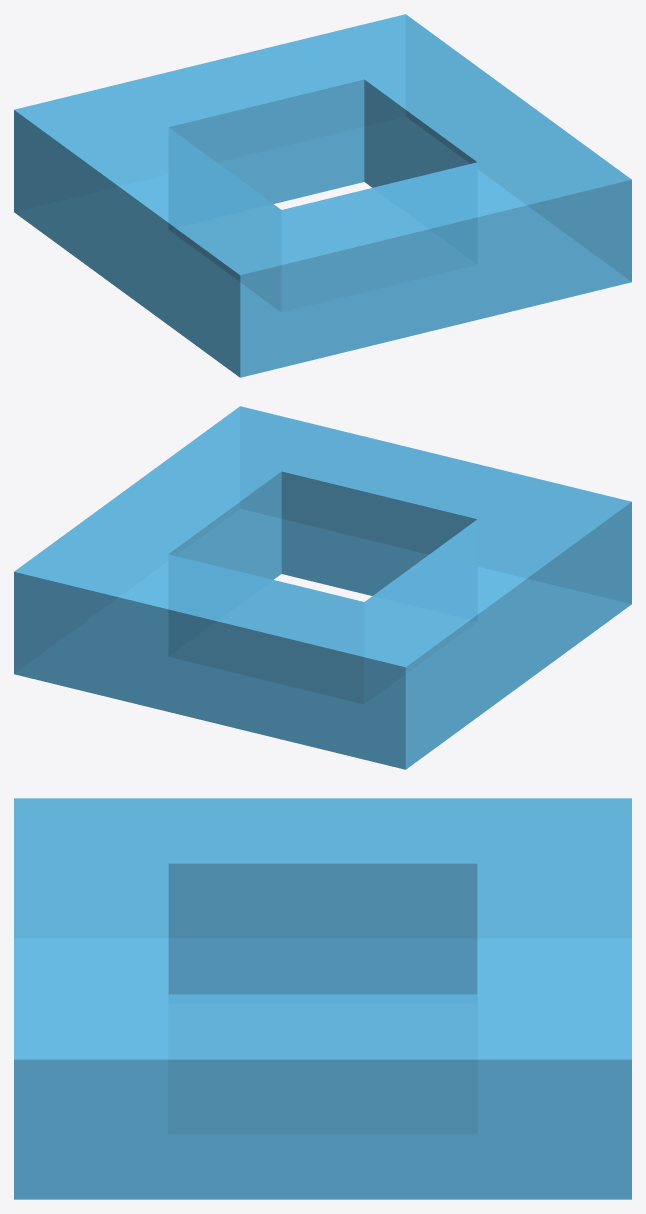
Rendered from obstacle.dae.
3 renders of one model, top to bottom at view 1: azimuth 30°, elevation 25°; view 2: azimuth 150°, elevation 25°; view 3: azimuth 270°, elevation 25°, orthographic. The views are drawn at different scales.
Parts seen in each view (by area): view 1: cfe95e20-8de2-4990-b87a-72f42bedb00e; view 2: cfe95e20-8de2-4990-b87a-72f42bedb00e; view 3: cfe95e20-8de2-4990-b87a-72f42bedb00e.
Boxes of the visible parts, x1=… form: cfe95e20-8de2-4990-b87a-72f42bedb00e: x1=14, y1=14, x2=631, y2=377; cfe95e20-8de2-4990-b87a-72f42bedb00e: x1=14, y1=406, x2=631, y2=769; cfe95e20-8de2-4990-b87a-72f42bedb00e: x1=14, y1=798, x2=631, y2=1199.
Size of the model in its own units: 40 by 40 by 10.
